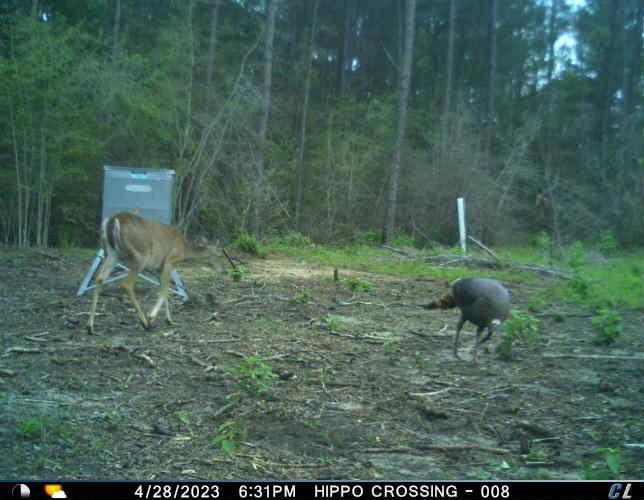Deer: (84, 206, 234, 336)
